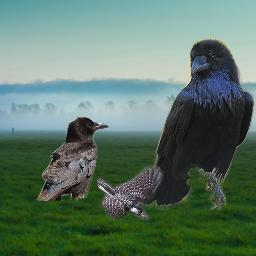Crow: (141, 38, 254, 210), (36, 116, 110, 201)
Woodpecker: (97, 165, 164, 222)
